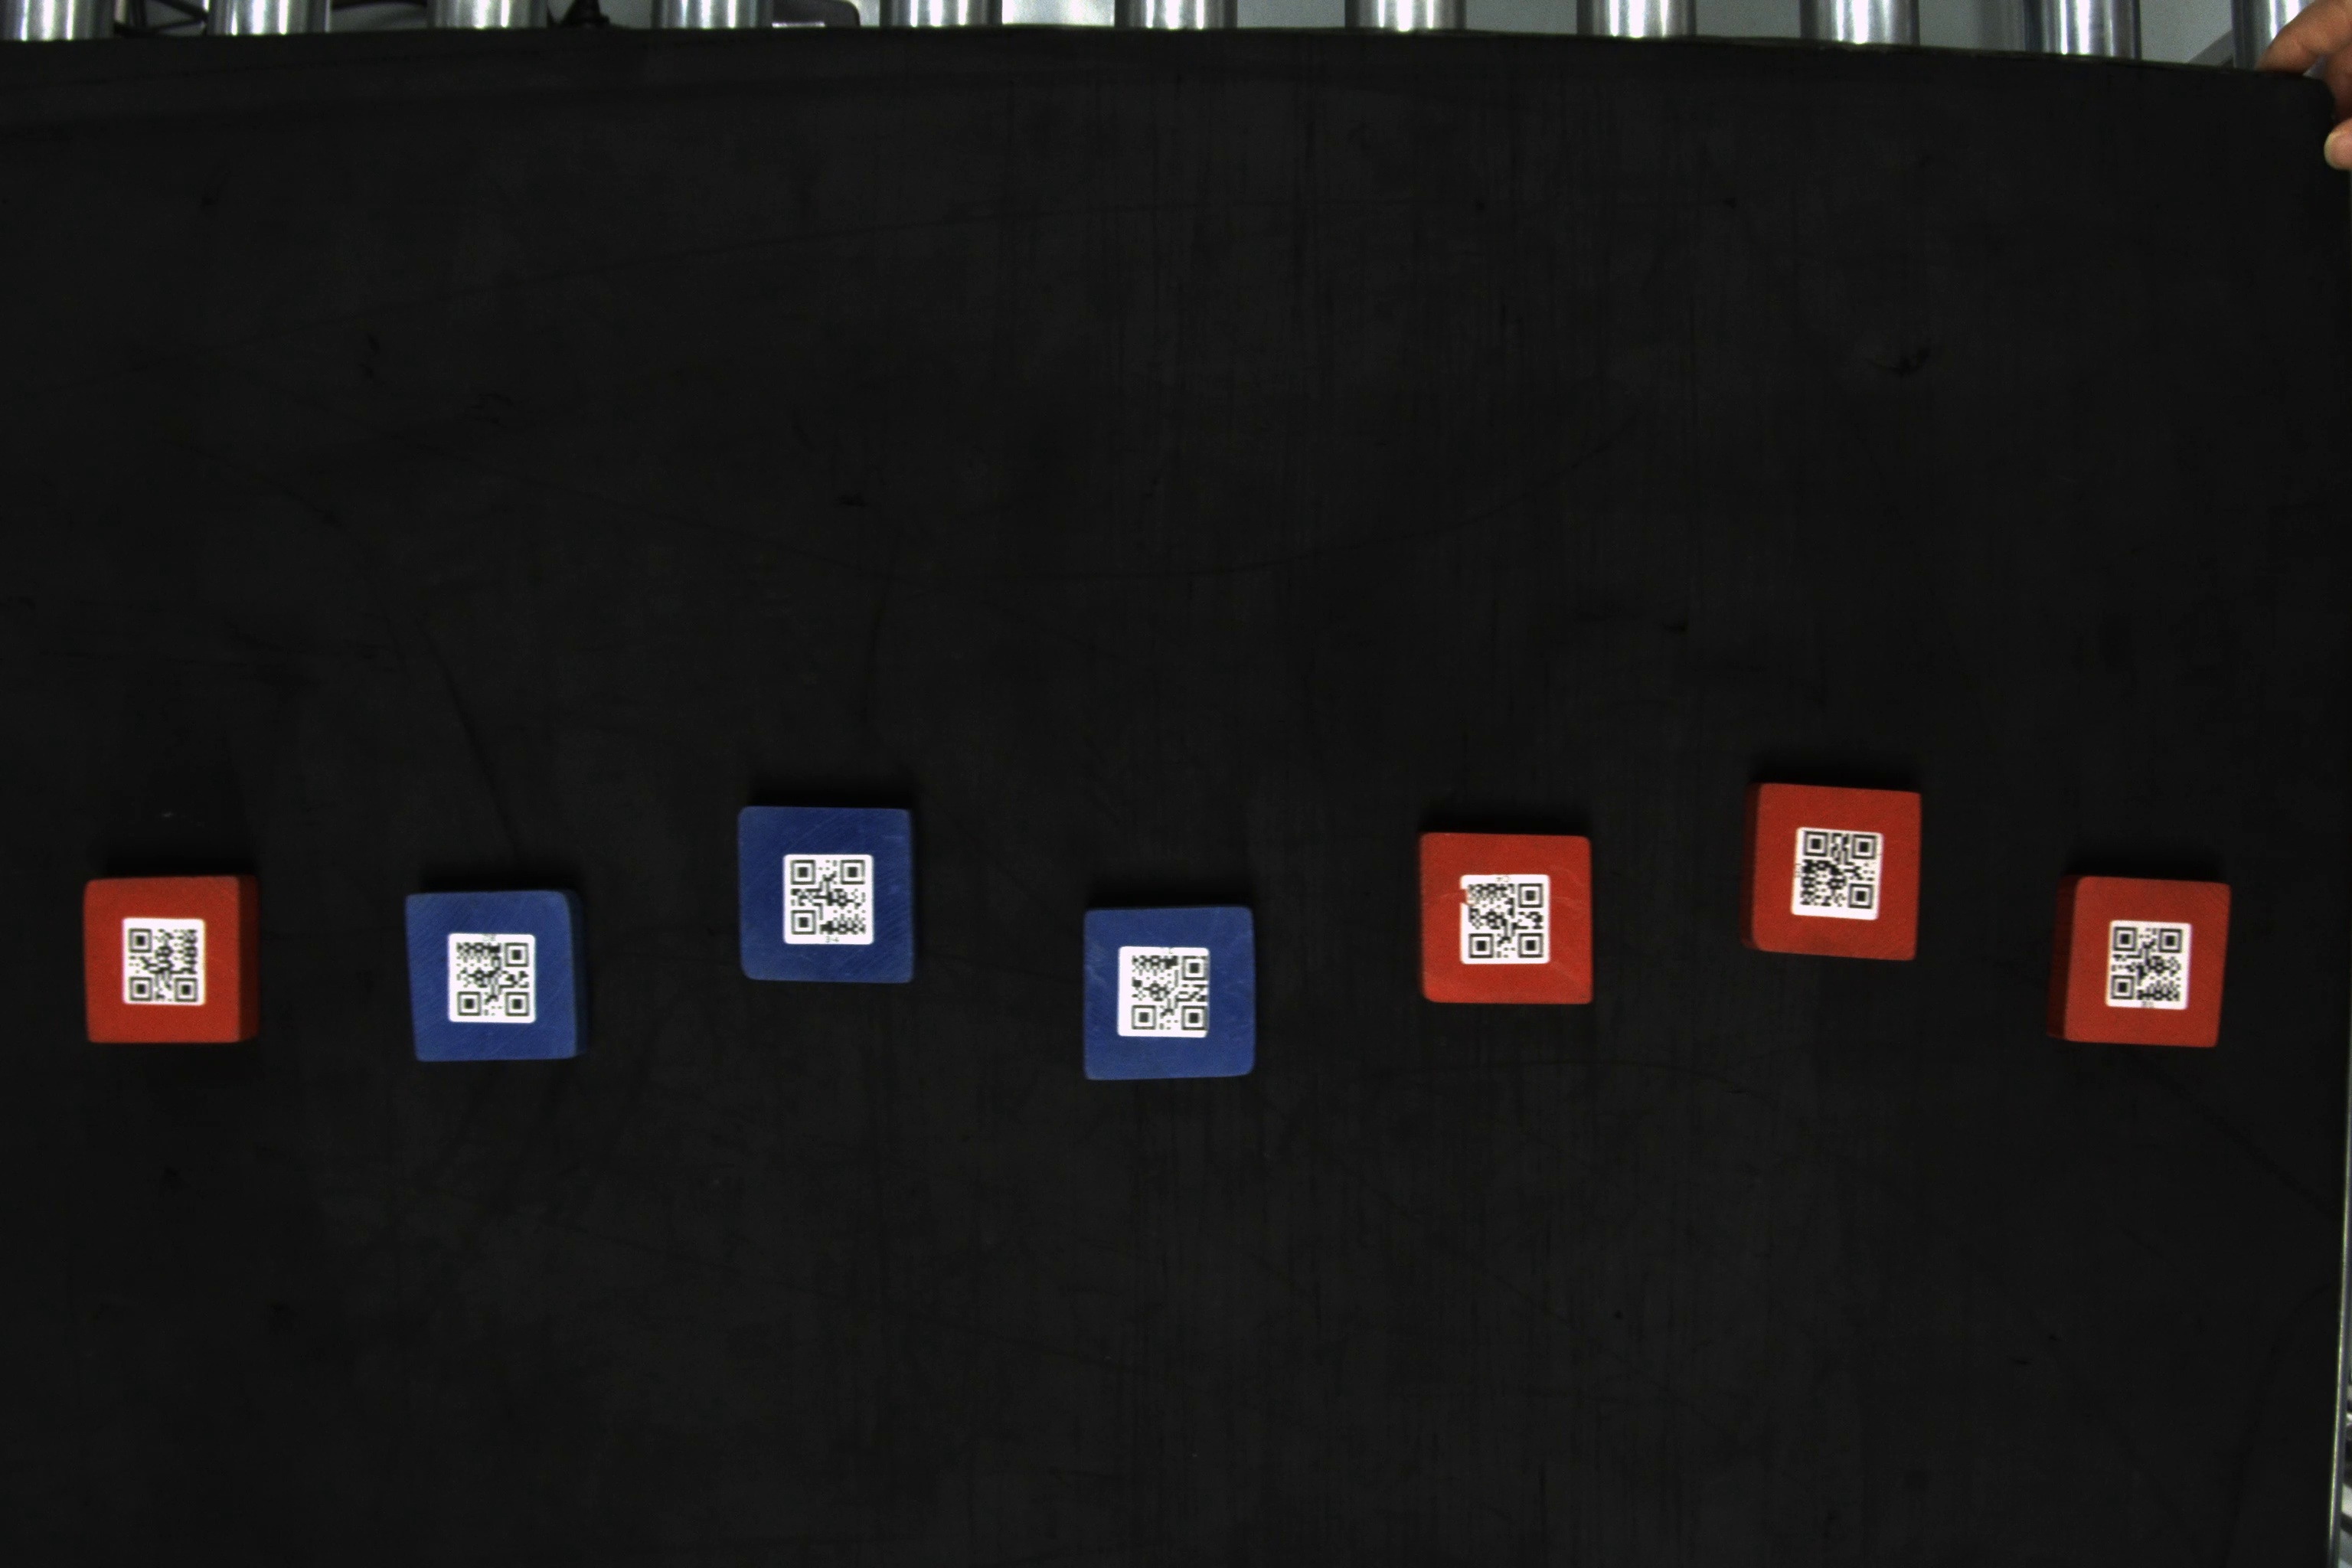wood: (1739, 779, 1932, 968), (733, 798, 922, 987), (1412, 829, 1608, 1011), (399, 884, 586, 1073), (1078, 899, 1269, 1085), (2053, 870, 2238, 1053), (77, 873, 271, 1048)
